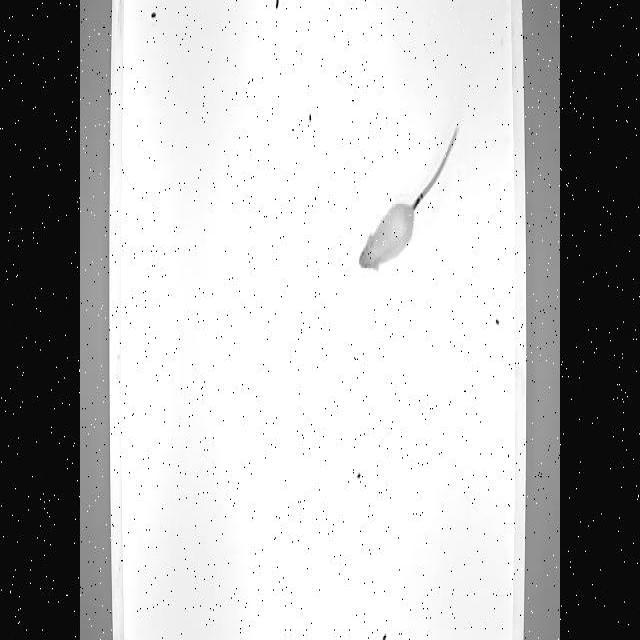rat: (356, 120, 466, 284)
